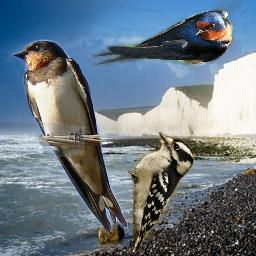Swallow: (11, 39, 128, 233), (92, 9, 234, 66)
Woodpecker: (128, 132, 194, 252)
